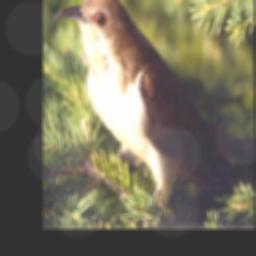Cuckoo: (54, 0, 246, 208)
